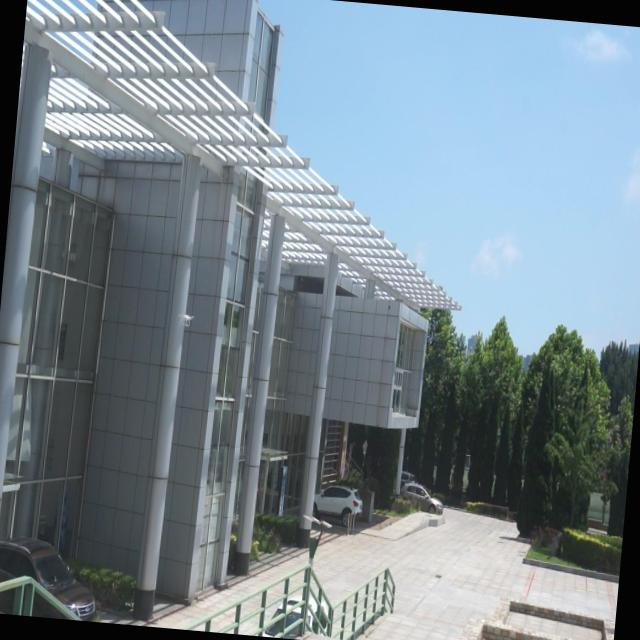drone: (176, 308, 196, 331)
